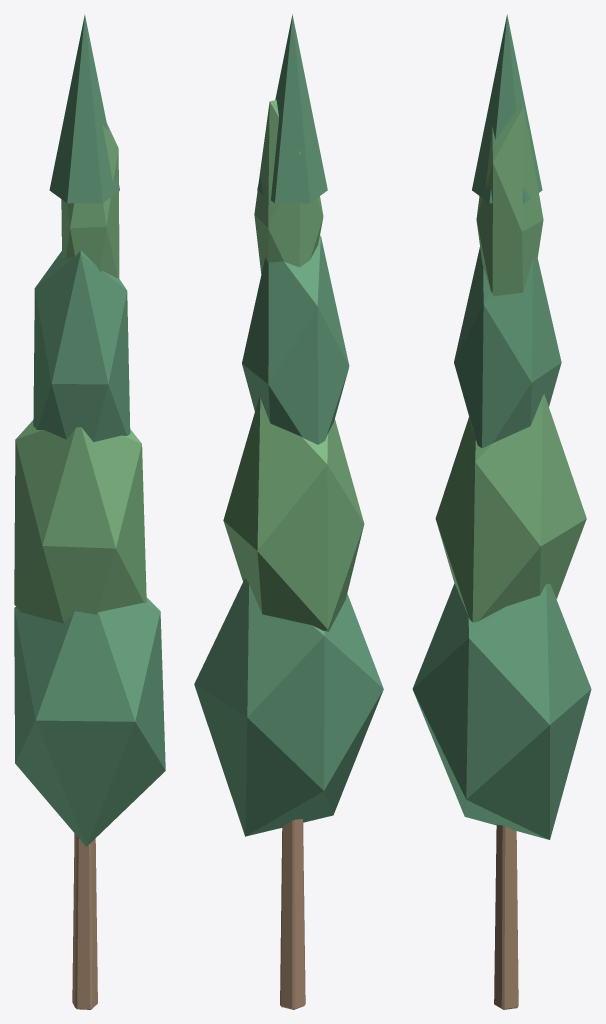
The model's file is cipreste_1.fbx.
3 renders of one model, left to right at view 1: azimuth 30°, elevation 25°; view 2: azimuth 150°, elevation 25°; view 3: azimuth 270°, elevation 25°, orthographic.
Parts seen in each view (by area): view 1: cipreste_1~Copa 0@cypress, cipreste_1~Copa 1@leafdark, cipreste_1~Copa 2@cypress, cipreste_1~Ponta@cypress, cipreste_1~Copa 3@leafdark, cipreste_1~Tronco@bark; view 2: cipreste_1~Copa 0@cypress, cipreste_1~Copa 1@leafdark, cipreste_1~Copa 2@cypress, cipreste_1~Ponta@cypress, cipreste_1~Copa 3@leafdark, cipreste_1~Tronco@bark; view 3: cipreste_1~Copa 0@cypress, cipreste_1~Copa 1@leafdark, cipreste_1~Copa 2@cypress, cipreste_1~Copa 3@leafdark, cipreste_1~Tronco@bark, cipreste_1~Ponta@cypress.
Part boxes in pixels (x1,y1,x2,y2): cipreste_1~Copa 0@cypress: [14, 597, 165, 846]; cipreste_1~Copa 1@leafdark: [14, 420, 146, 623]; cipreste_1~Copa 2@cypress: [33, 250, 130, 442]; cipreste_1~Ponta@cypress: [49, 14, 119, 203]; cipreste_1~Copa 3@leafdark: [61, 123, 119, 278]; cipreste_1~Tronco@bark: [72, 833, 97, 1009]; cipreste_1~Copa 0@cypress: [194, 578, 383, 836]; cipreste_1~Copa 1@leafdark: [223, 397, 364, 631]; cipreste_1~Copa 2@cypress: [242, 235, 349, 444]; cipreste_1~Ponta@cypress: [257, 14, 327, 203]; cipreste_1~Copa 3@leafdark: [254, 100, 323, 273]; cipreste_1~Tronco@bark: [280, 819, 305, 1009]; cipreste_1~Copa 0@cypress: [412, 583, 591, 839]; cipreste_1~Copa 1@leafdark: [435, 394, 586, 622]; cipreste_1~Copa 2@cypress: [454, 247, 561, 448]; cipreste_1~Copa 3@leafdark: [476, 104, 543, 296]; cipreste_1~Tronco@bark: [494, 824, 518, 1009]; cipreste_1~Ponta@cypress: [472, 14, 542, 203].
Size of the model in its own units: 1.92 by 12.37 by 2.02.
